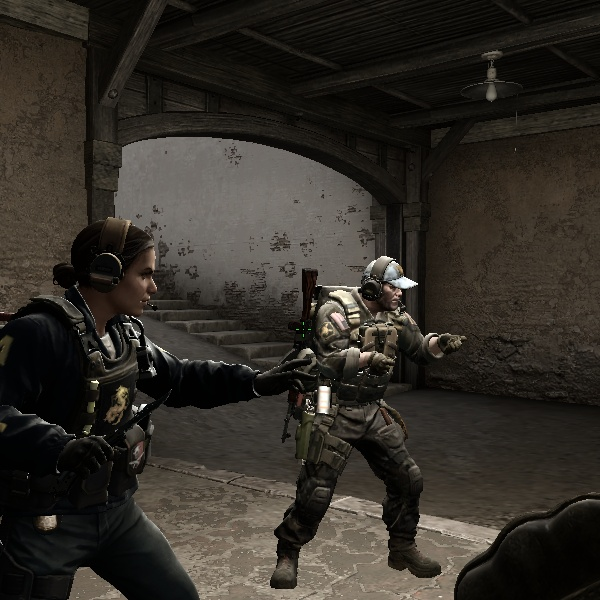ct_body: (280, 251, 462, 581)
ct_head: (349, 257, 416, 319)
